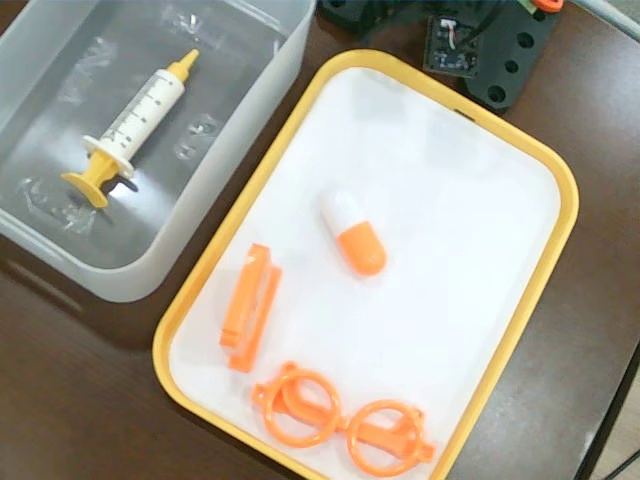pill: (318, 186, 389, 277)
syringe: (59, 49, 201, 211)
